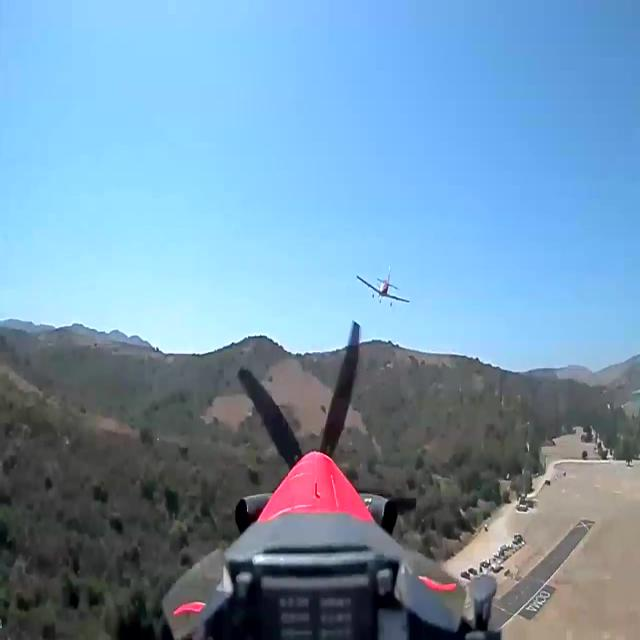iha: (356, 265, 411, 308)
